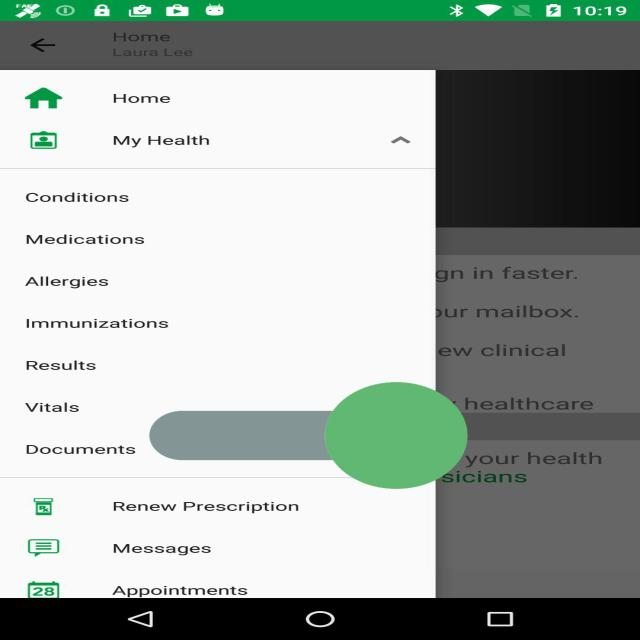social proof: (150, 316, 468, 555)
